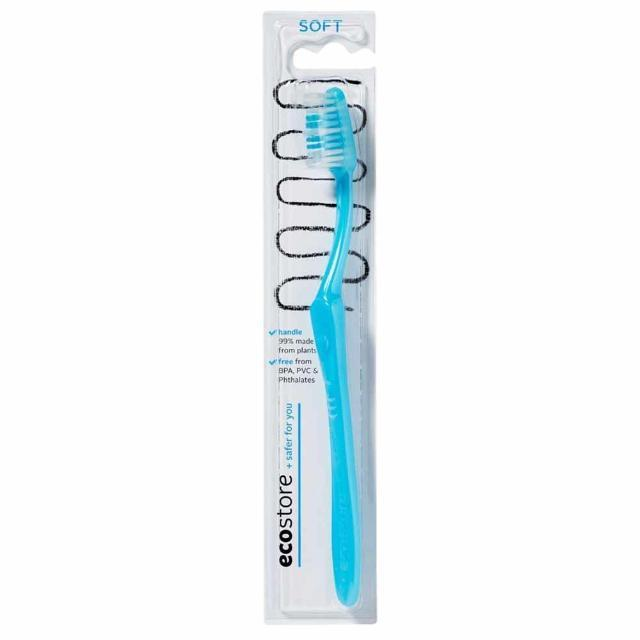toothbrush: (294, 79, 374, 621)
